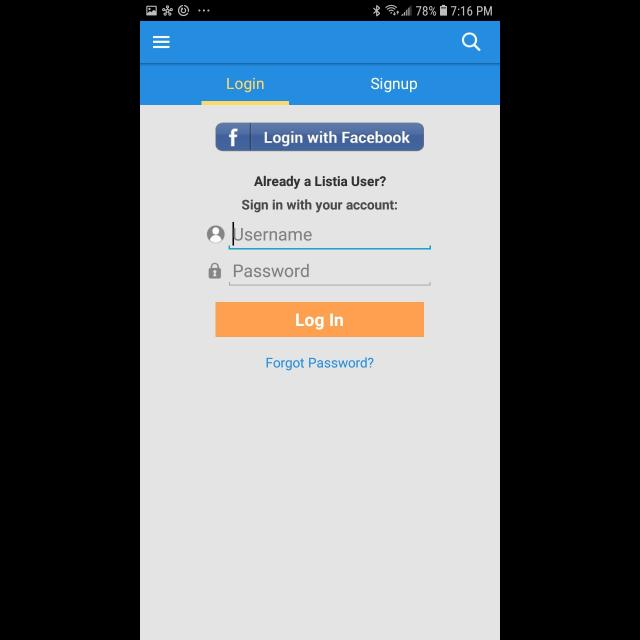icon: (462, 32, 481, 52), (207, 225, 225, 243), (208, 263, 222, 279), (154, 36, 170, 49)
input: (228, 222, 432, 250), (229, 264, 431, 286)
text: (242, 199, 398, 213), (254, 176, 386, 190), (266, 357, 374, 371), (234, 228, 312, 242), (234, 264, 310, 278), (371, 78, 417, 92), (228, 78, 264, 92)
textbutton: (216, 302, 424, 338), (216, 122, 424, 152)
uppertaskbar: (140, 1, 500, 22)
